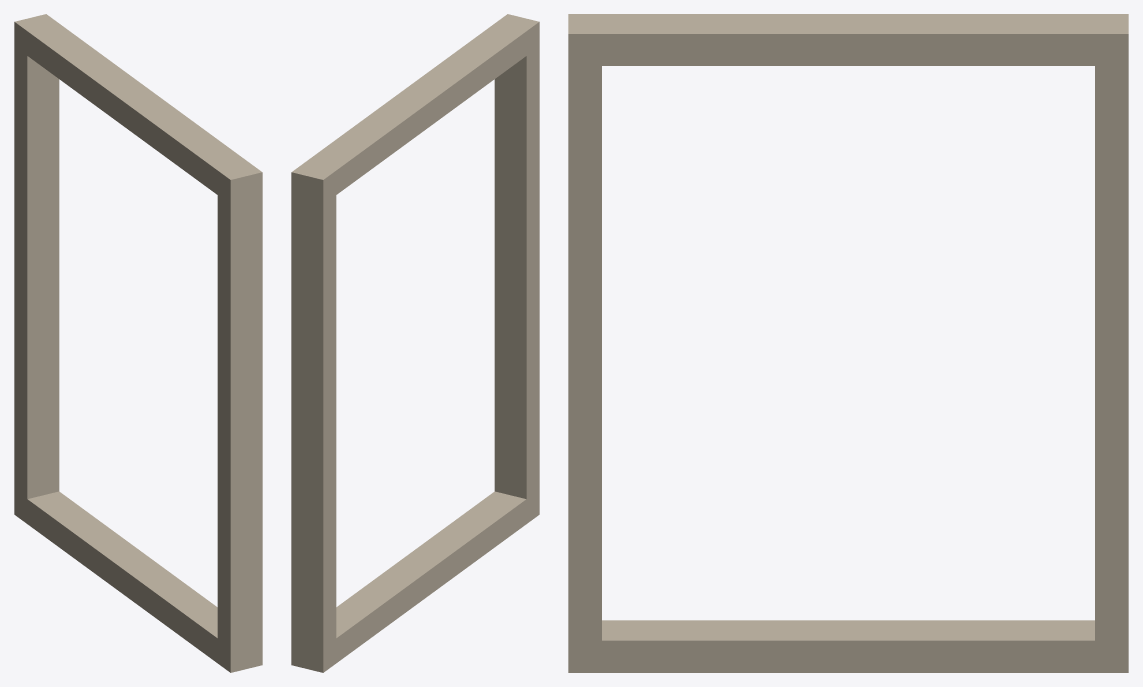
Rendered from window.fbx.
3 renders of one model, left to right at view 1: azimuth 30°, elevation 25°; view 2: azimuth 150°, elevation 25°; view 3: azimuth 270°, elevation 25°, orthographic. The views are drawn at different scales.
Visible parts, largest first — view 1: window; view 2: window; view 3: window.
Part boxes in pixels (x1,y1,x2,y2): window: (14, 14, 262, 672); window: (291, 14, 539, 672); window: (568, 14, 1128, 672).
Size of the model in its own units: 0.248 by 3.67 by 2.92.
